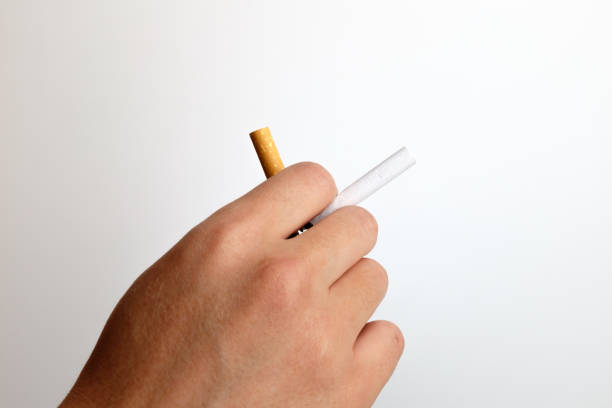cigarette: (309, 148, 416, 228), (252, 126, 288, 179)
